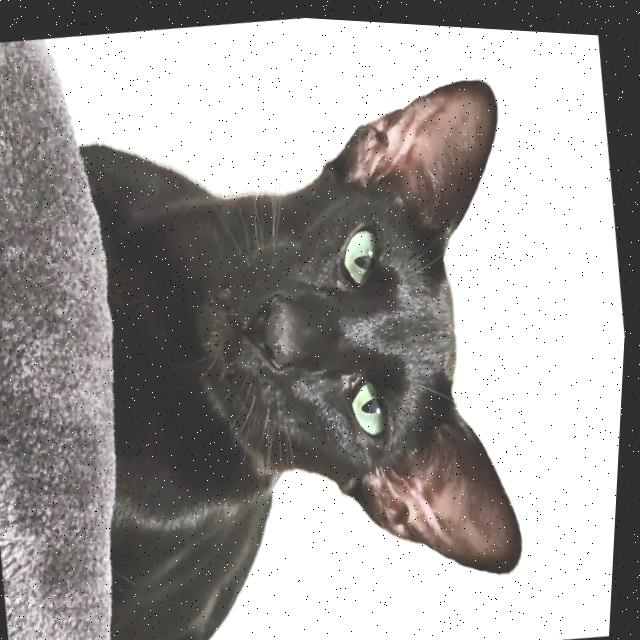Oriental: (27, 42, 580, 640)
